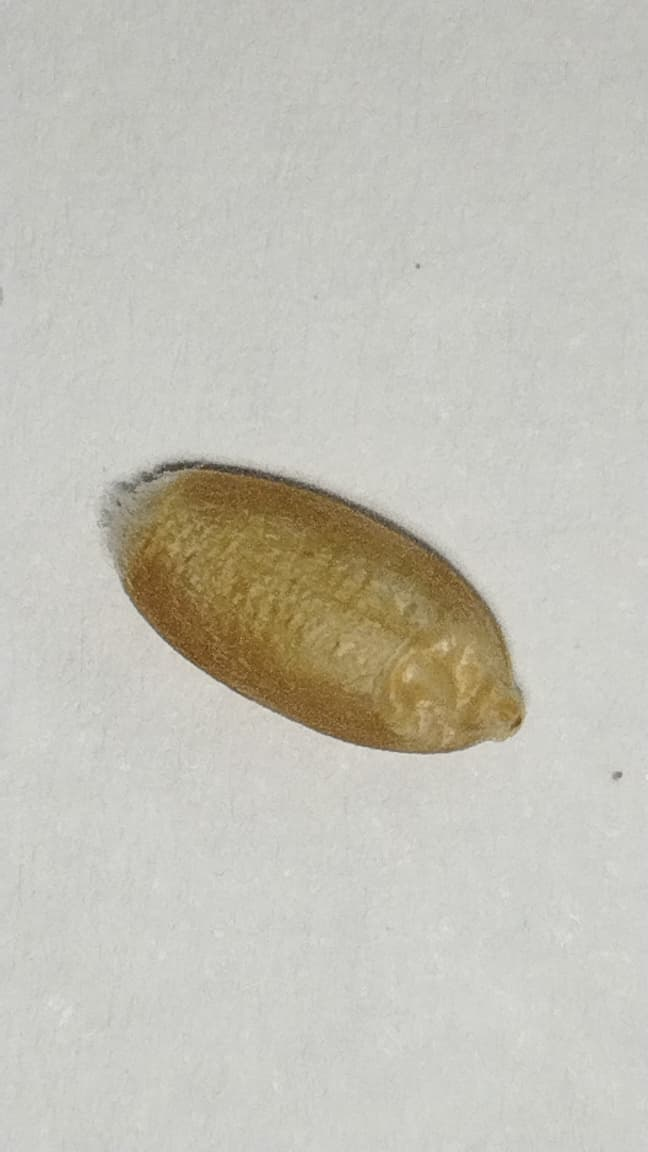healthy: (102, 460, 523, 750)
